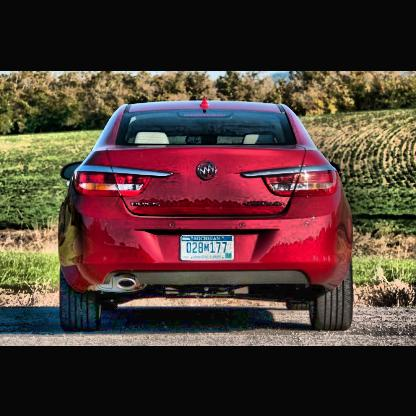Buick Verano Sedan 2012: (57, 101, 354, 334)
